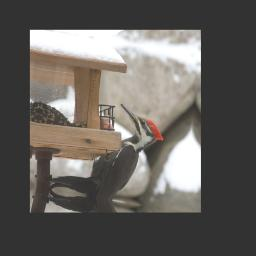Woodpecker: (43, 92, 174, 209)
